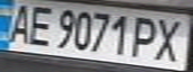0: (69, 8, 93, 52)
1: (106, 11, 133, 56)
7: (87, 9, 112, 54)
9: (51, 6, 78, 49)
A: (3, 0, 39, 45)
E: (21, 2, 57, 47)
P: (127, 12, 163, 60)
X: (148, 16, 193, 63)
